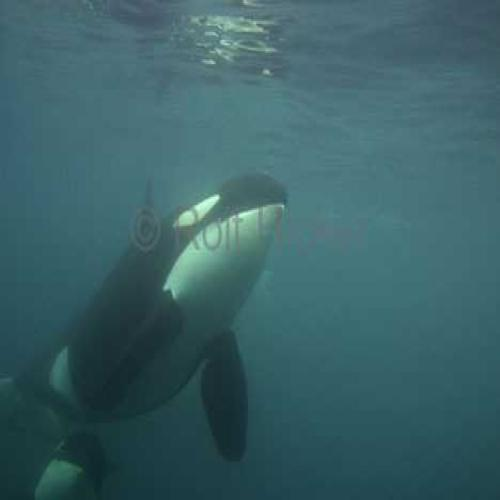killer_whale-endangered: (32, 153, 302, 459)
